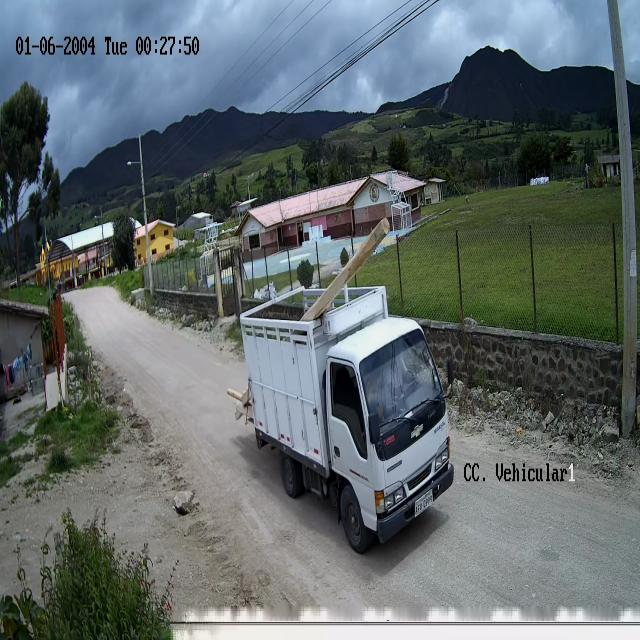TRUCK: (240, 292, 450, 556)
